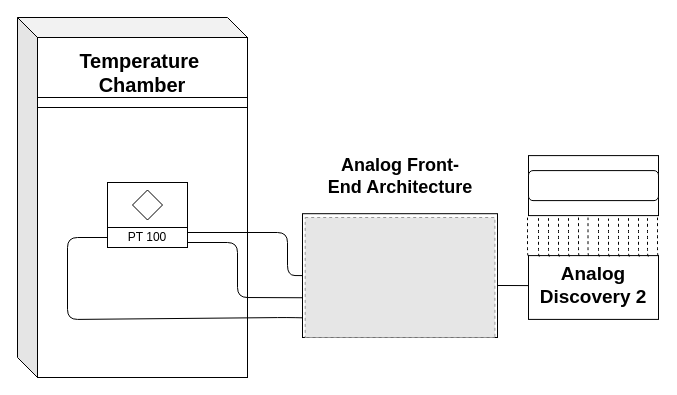
Some shapes in this 677 by 395 pixel diagram are drawn without their labels. Grey dashed boxes stand in for pictures. The centre of each missing label's shape, as x and y in pixels:
Chip: [147,204]
Temperature:- 25: [593,185]
